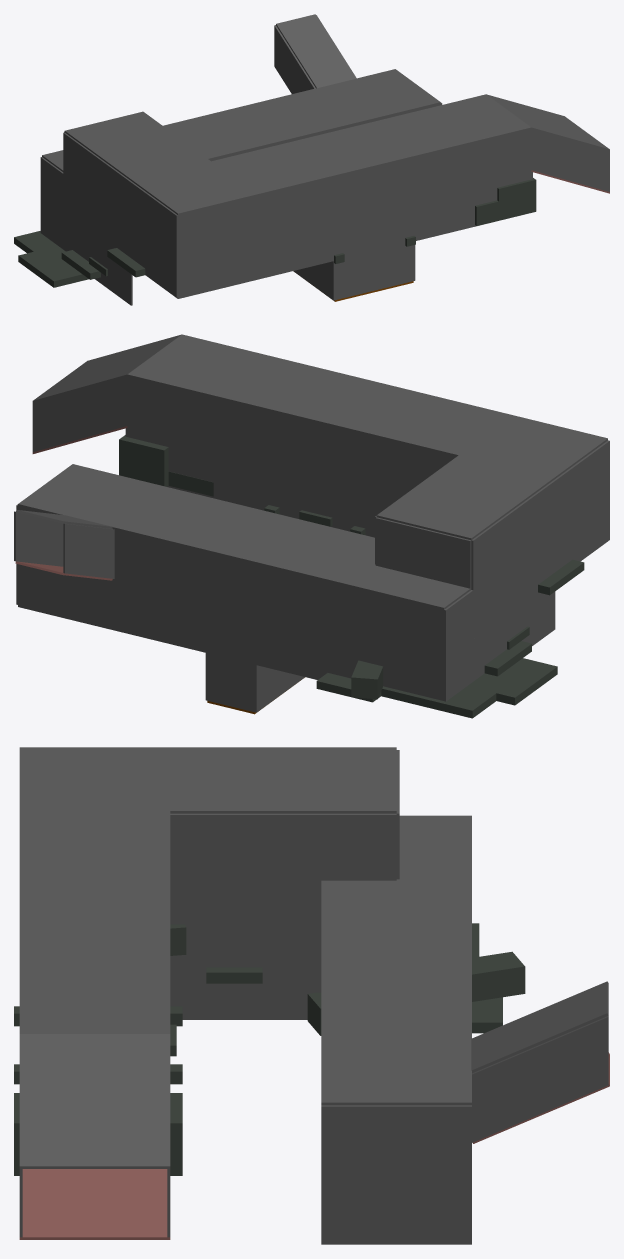
The model's file is CorridorLevel_BlockoutTest_V3_StartArea.fbx.
3 renders of one model, top to bottom at view 1: azimuth 30°, elevation 25°; view 2: azimuth 150°, elevation 25°; view 3: azimuth 270°, elevation 25°, orthographic. The views are drawn at different scales.
Visible parts, largest first — view 1: pCube450, pCube352 (×2), MudRamp4, pCube312, pCube313, pCube148, pCube194, pCube338, pCube339, pCube145, pCube141, pCube143 (+70 smaller); view 2: pCube176 (×2), pCube178 (×2), pCube187 (×2), pCube449, pCube172 (×2), pCube174 (×2), pCube160 (×2), pCube299 (×2), pCube295 (×2), pCube297 (×2), MudRamp4, pCube353 (×2) (+78 smaller); view 3: MudRamp4, MudRamp3, pCube351 (×2), pCube418, pCube419, pCube394, pCube396, pCube415, pCube393, pCube395, pCube406, pCube295 (×2) (+43 smaller).
Part boxes in pixels (left/top/right/bottom): pCube450: left=531, top=129, right=609, bottom=191; pCube352 (×2): left=276, top=14, right=355, bottom=88; MudRamp4: left=486, top=94, right=609, bottom=150; pCube312: left=217, top=237, right=256, bottom=287; pCube313: left=217, top=196, right=256, bottom=246; pCube148: left=413, top=148, right=452, bottom=198; pCube194: left=492, top=129, right=531, bottom=179; pCube338: left=335, top=167, right=374, bottom=217; pCube339: left=374, top=158, right=413, bottom=208; pCube145: left=453, top=139, right=492, bottom=189; pCube141: left=256, top=186, right=295, bottom=236; pCube143: left=256, top=227, right=295, bottom=277; pCube176 (×2): left=222, top=399, right=443, bottom=659; pCube178 (×2): left=174, top=388, right=396, bottom=647; pCube187 (×2): left=127, top=376, right=349, bottom=635; pCube449: left=32, top=376, right=127, bottom=452; pCube172 (×2): left=222, top=449, right=443, bottom=700; pCube174 (×2): left=174, top=437, right=396, bottom=689; pCube160 (×2): left=127, top=426, right=349, bottom=678; pCube299 (×2): left=222, top=377, right=471, bottom=609; pCube295 (×2): left=127, top=354, right=375, bottom=586; pCube297 (×2): left=174, top=366, right=422, bottom=598; MudRamp4: left=32, top=334, right=181, bottom=402; pCube353 (×2): left=63, top=523, right=114, bottom=578; MudRamp4: left=19, top=1034, right=170, bottom=1168; MudRamp3: left=19, top=1169, right=170, bottom=1239; pCube351 (×2): left=472, top=1016, right=608, bottom=1142; pCube418: left=245, top=813, right=321, bottom=883; pCube419: left=170, top=813, right=245, bottom=883; pCube394: left=321, top=1105, right=396, bottom=1174; pCube396: left=396, top=1105, right=471, bottom=1174; pCube415: left=245, top=883, right=321, bottom=951; pCube393: left=321, top=1175, right=396, bottom=1243; pCube395: left=396, top=1175, right=471, bottom=1243; pCube406: left=321, top=813, right=396, bottom=880; pCube295 (×2): left=95, top=879, right=471, bottom=1033.
Bounding box in the file's own units: 6025 × 2040 × 3952.
